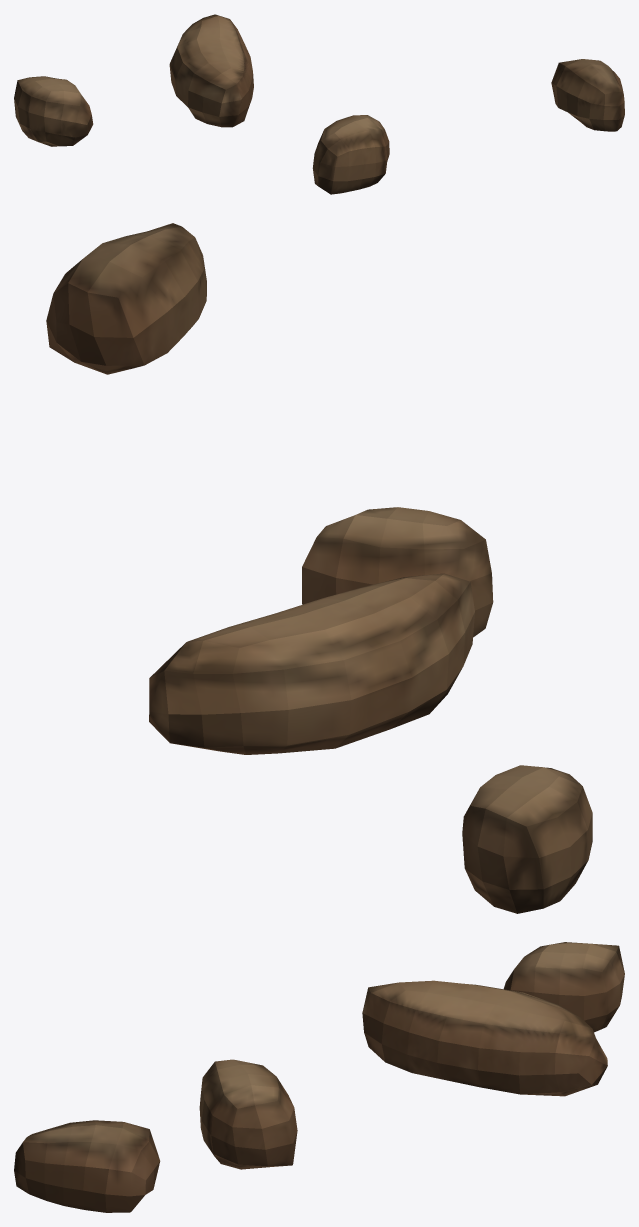
Rendered from TerrainCailloux.fbx.
The picture shows the model from 3 angles, top to bottom: view 1: azimuth 30°, elevation 25°; view 2: azimuth 150°, elevation 25°; view 3: azimuth 270°, elevation 25°; orthographic projection. The views are drawn at different scales.
Parts seen in each view (by area): view 1: Object001; view 2: Object001; view 3: Object001.
Part boxes in pixels (x1,y1,x2,y2): Object001: (14,14,624,194); Object001: (46,223,592,913); Object001: (14,942,624,1212).
Size of the model in its own units: 1006 by 258 by 897.
